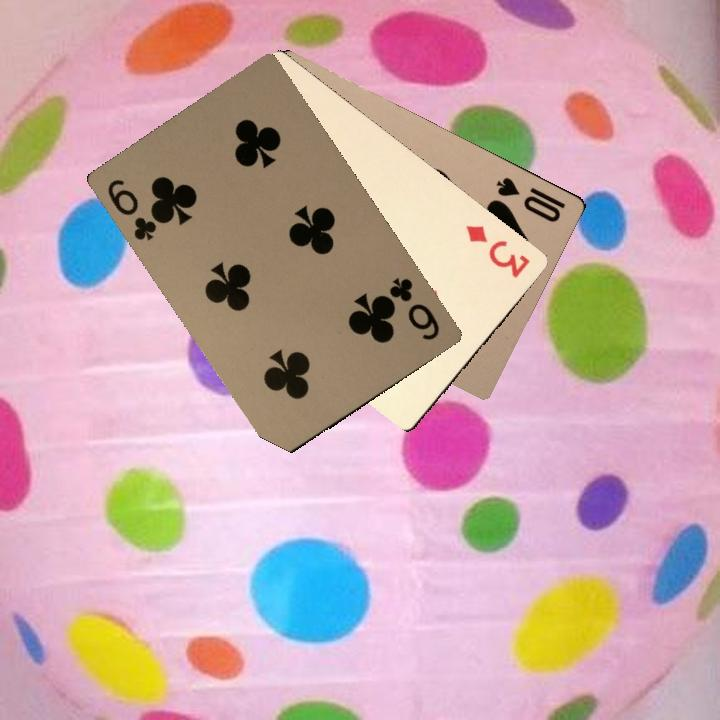10s: (492, 172, 568, 225)
3d: (461, 221, 533, 281)
6c: (103, 175, 166, 245), (384, 273, 443, 343)
